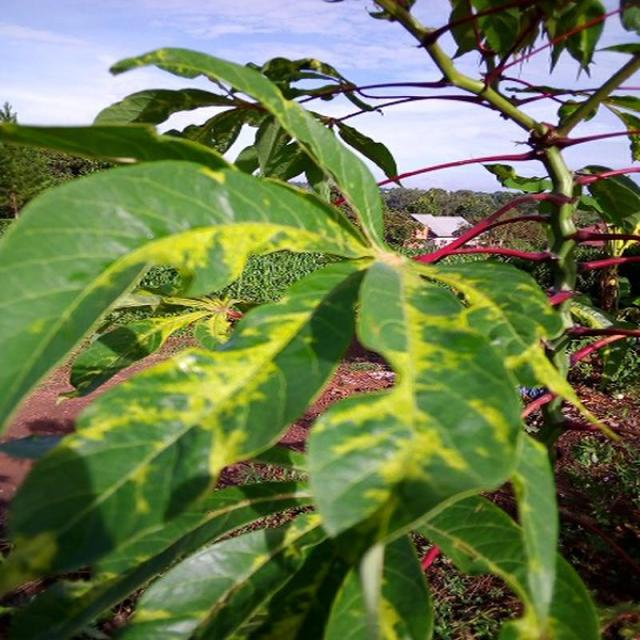cassava leaf: (1, 46, 581, 637), (4, 253, 369, 582), (0, 157, 371, 438)
